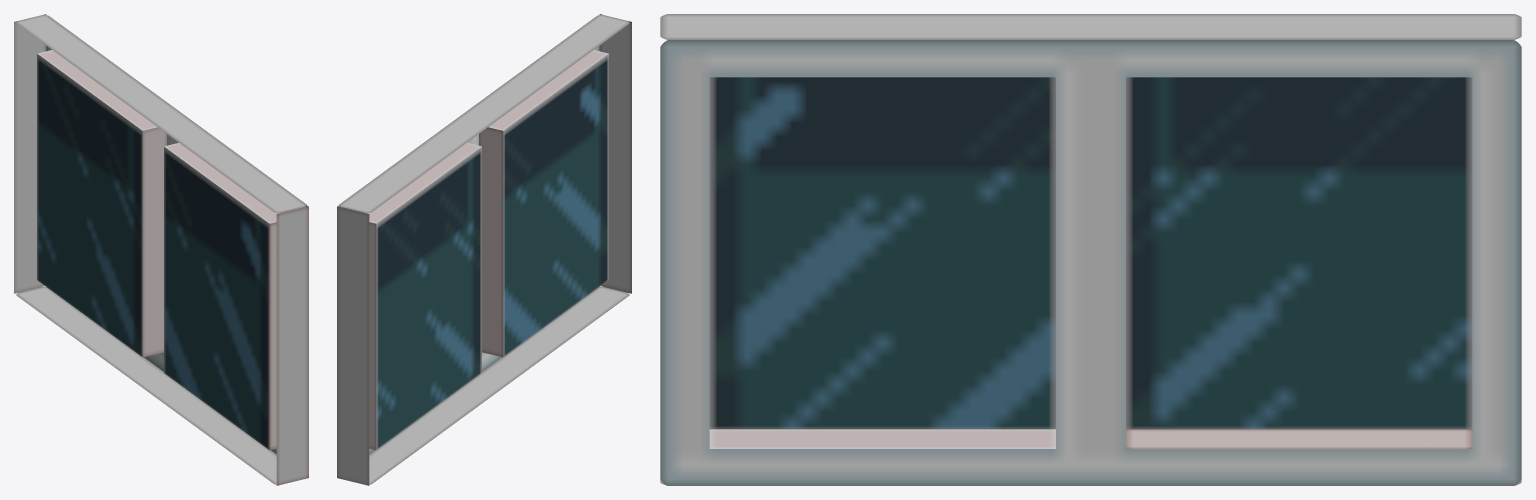
Rendered from WindowWhite2smallLarge.fbx.
The picture shows the model from 3 angles, left to right: view 1: azimuth 30°, elevation 25°; view 2: azimuth 150°, elevation 25°; view 3: azimuth 270°, elevation 25°; orthographic projection. The views are drawn at different scales.
Parts seen in each view (by area): view 1: plane; view 2: plane; view 3: plane.
Part boxes in pixels (bbox=[...]): plane: bbox=[14, 14, 308, 485]; plane: bbox=[337, 14, 631, 485]; plane: bbox=[660, 14, 1521, 485].
Size of the model in its own units: 6.25 by 50 by 87.5.
Materials: 1 (1 with a texture image).
